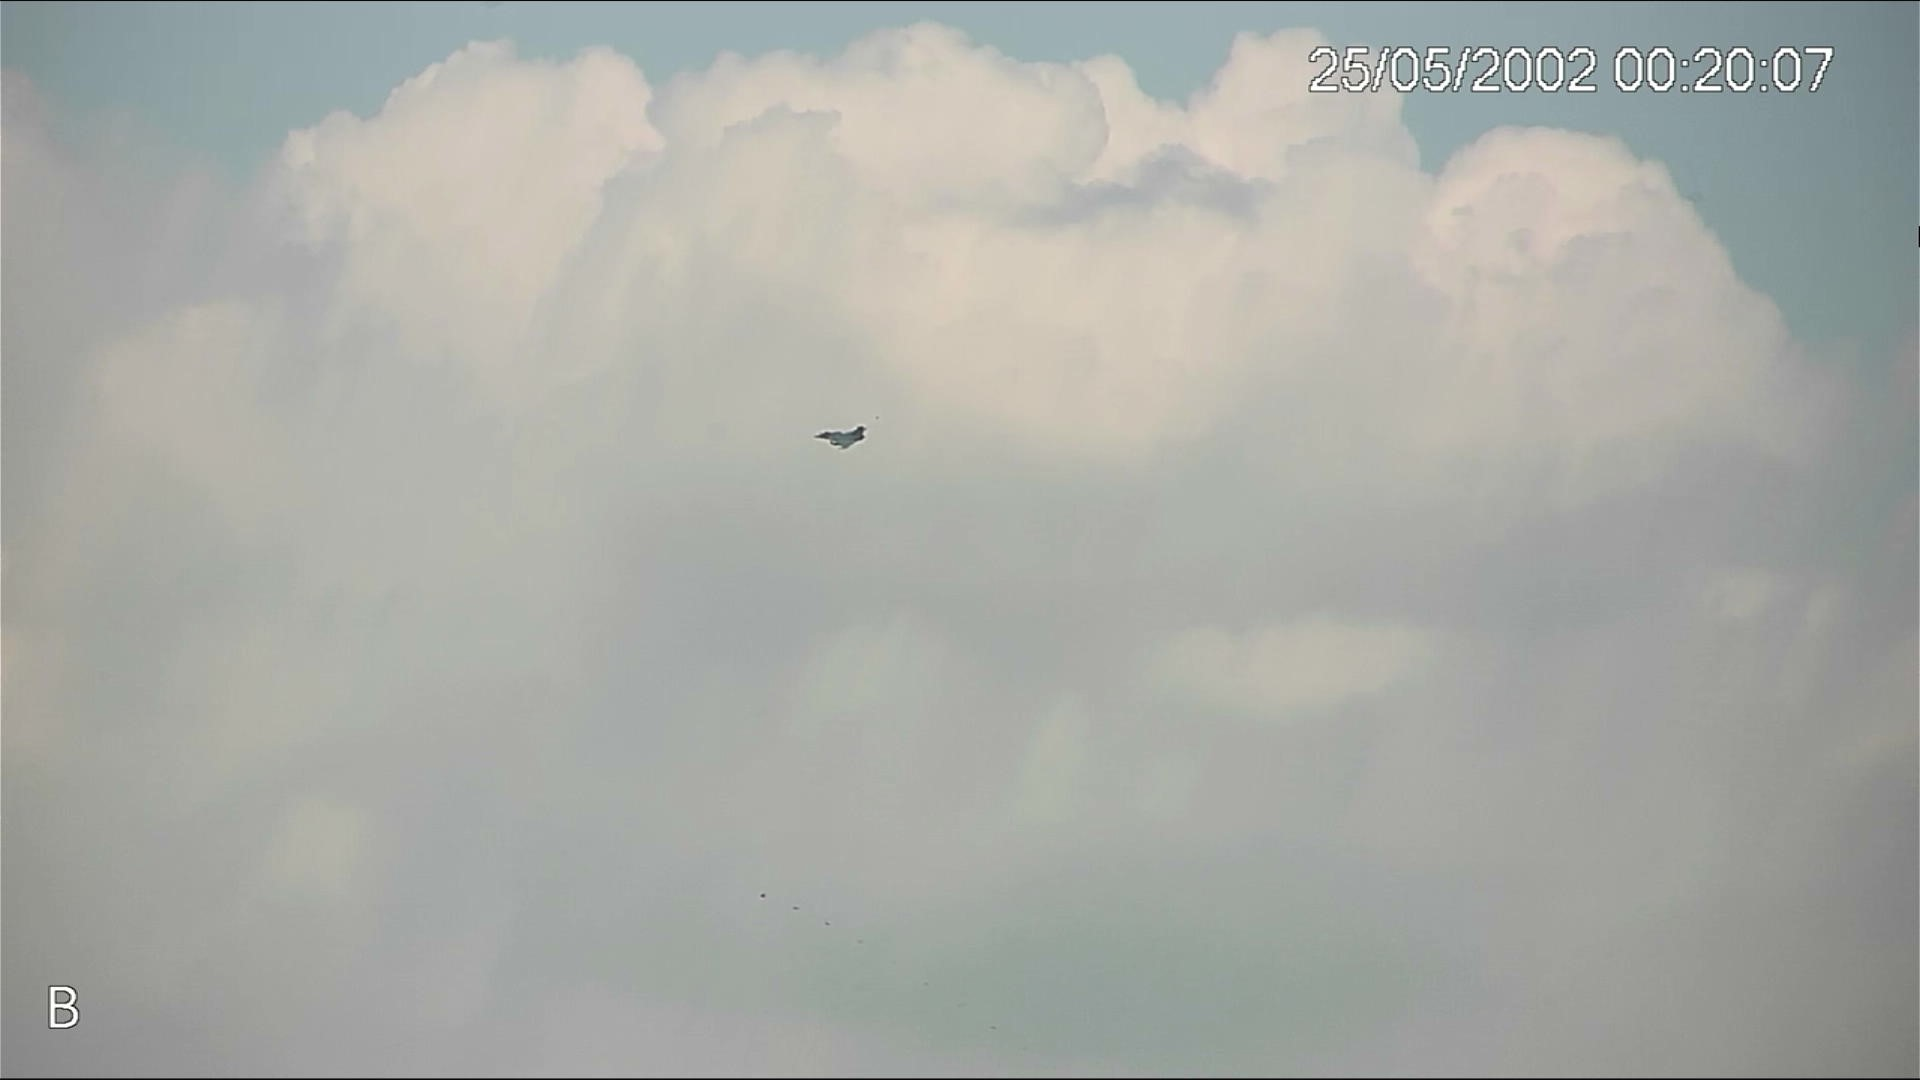SU_30: (810, 423, 870, 451)
